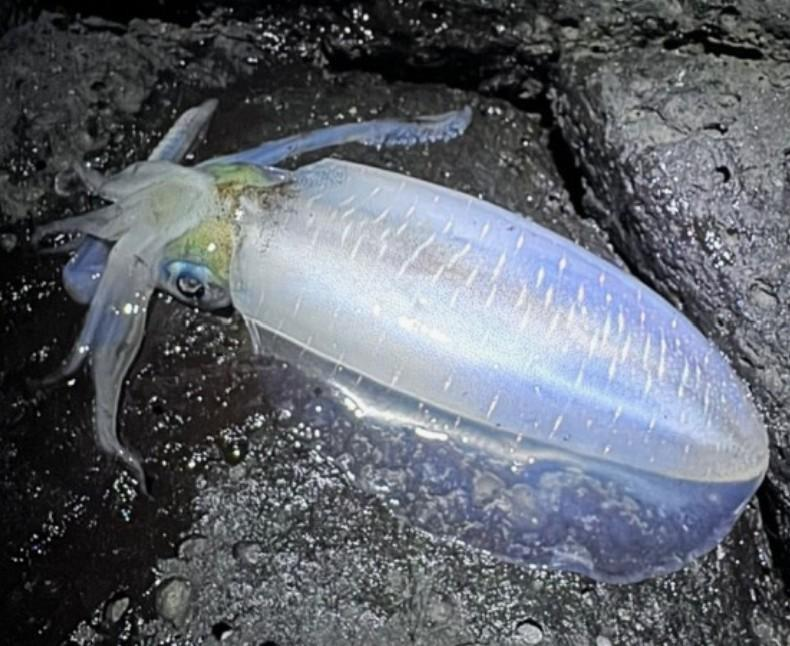Cephalopod: (34, 100, 768, 582)
